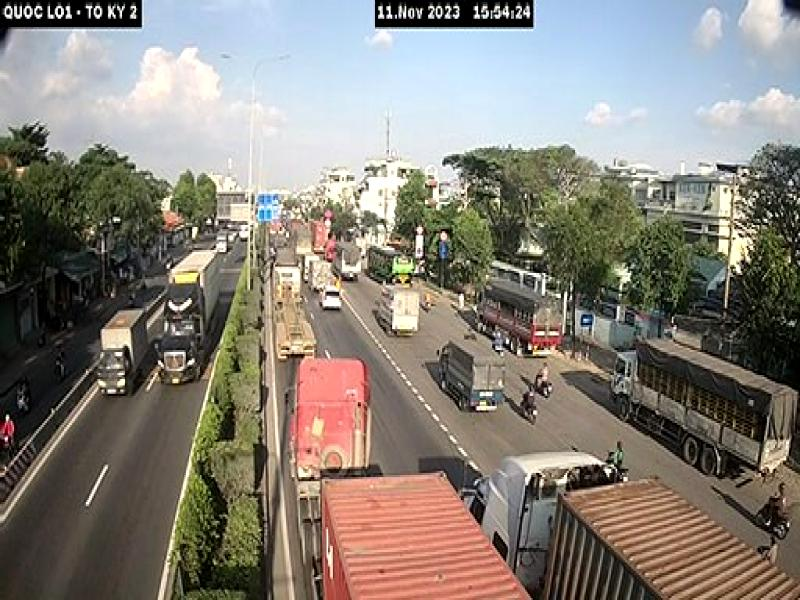bus: (366, 241, 412, 292)
truck: (284, 354, 534, 600), (464, 448, 800, 600), (606, 339, 800, 483), (158, 245, 222, 382), (473, 276, 564, 363), (92, 308, 153, 400), (434, 337, 506, 413), (270, 250, 316, 360), (372, 282, 421, 341)
